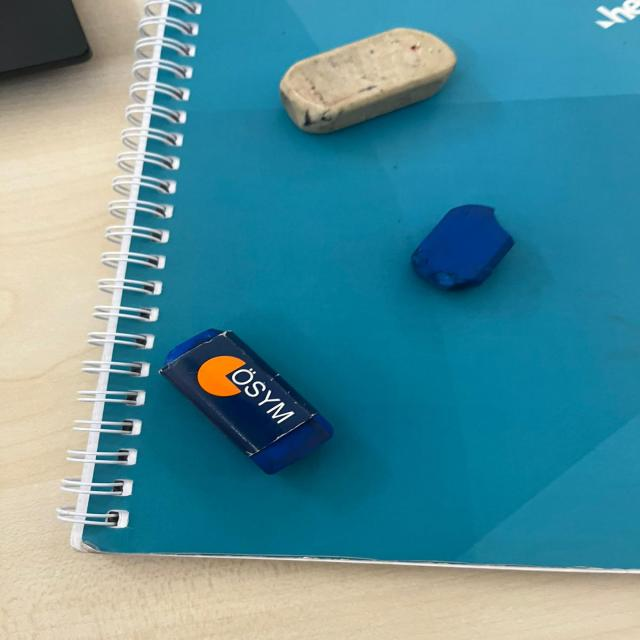eraser: (152, 320, 336, 480), (267, 19, 465, 134), (402, 194, 512, 304)
